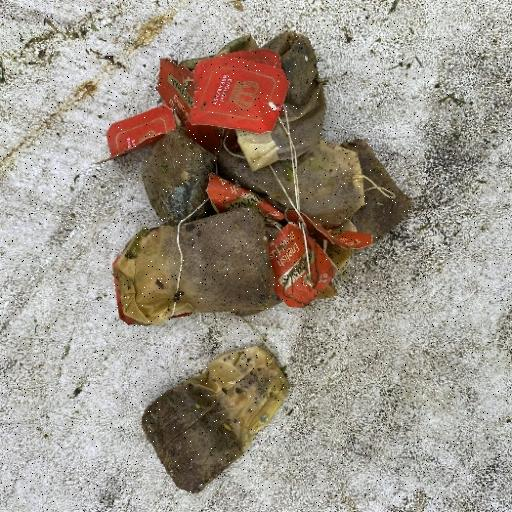Waste: (98, 30, 410, 326), (139, 344, 289, 494)
